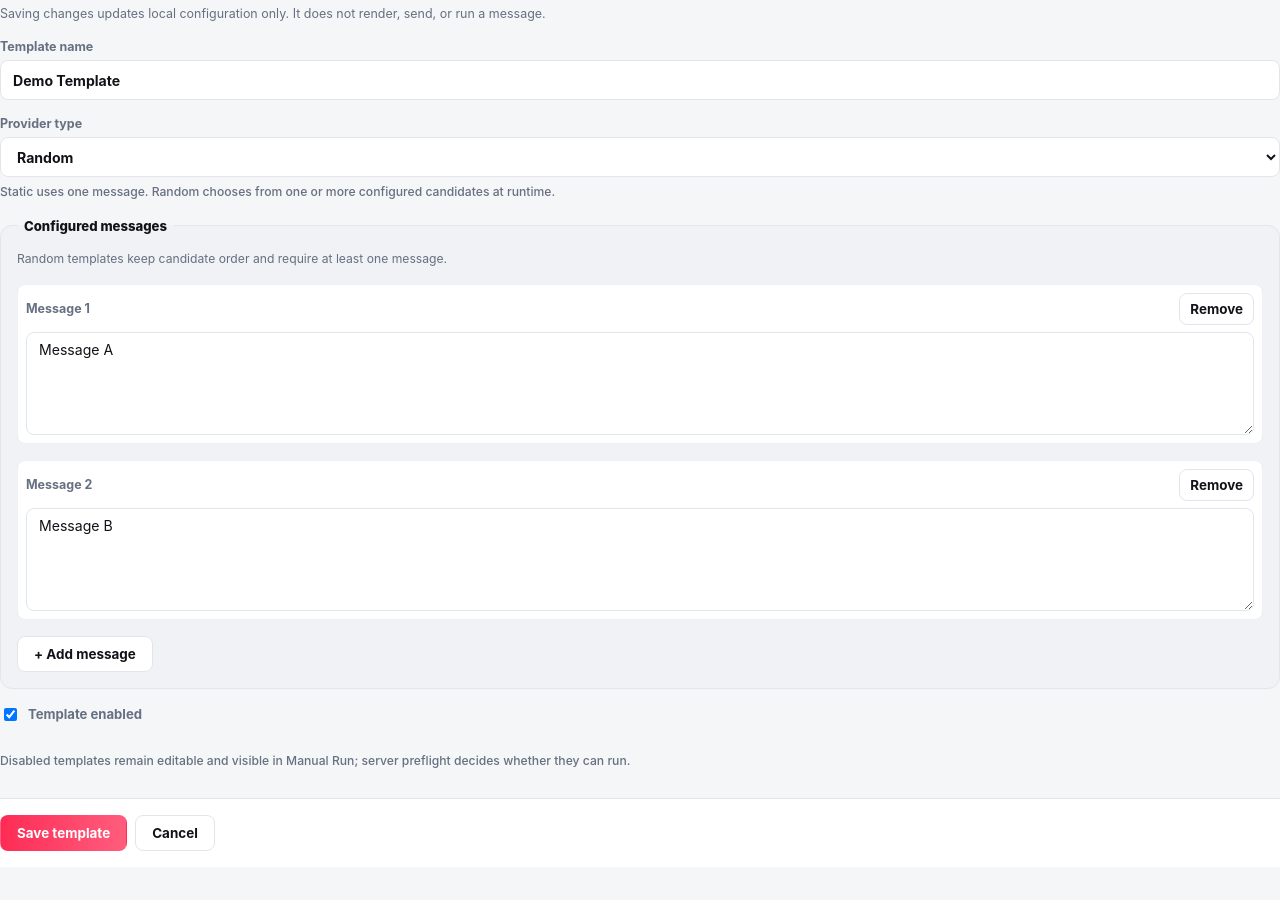
Test: TemplateEditor › keeps the explicitly selected message in a multi-message switch
The width and height of the screenshot is (1280, 900).
Select "Static" in the dropdown named "providerType" at {"x": 640, "y": 157}, box 0,137 -> 1279,177
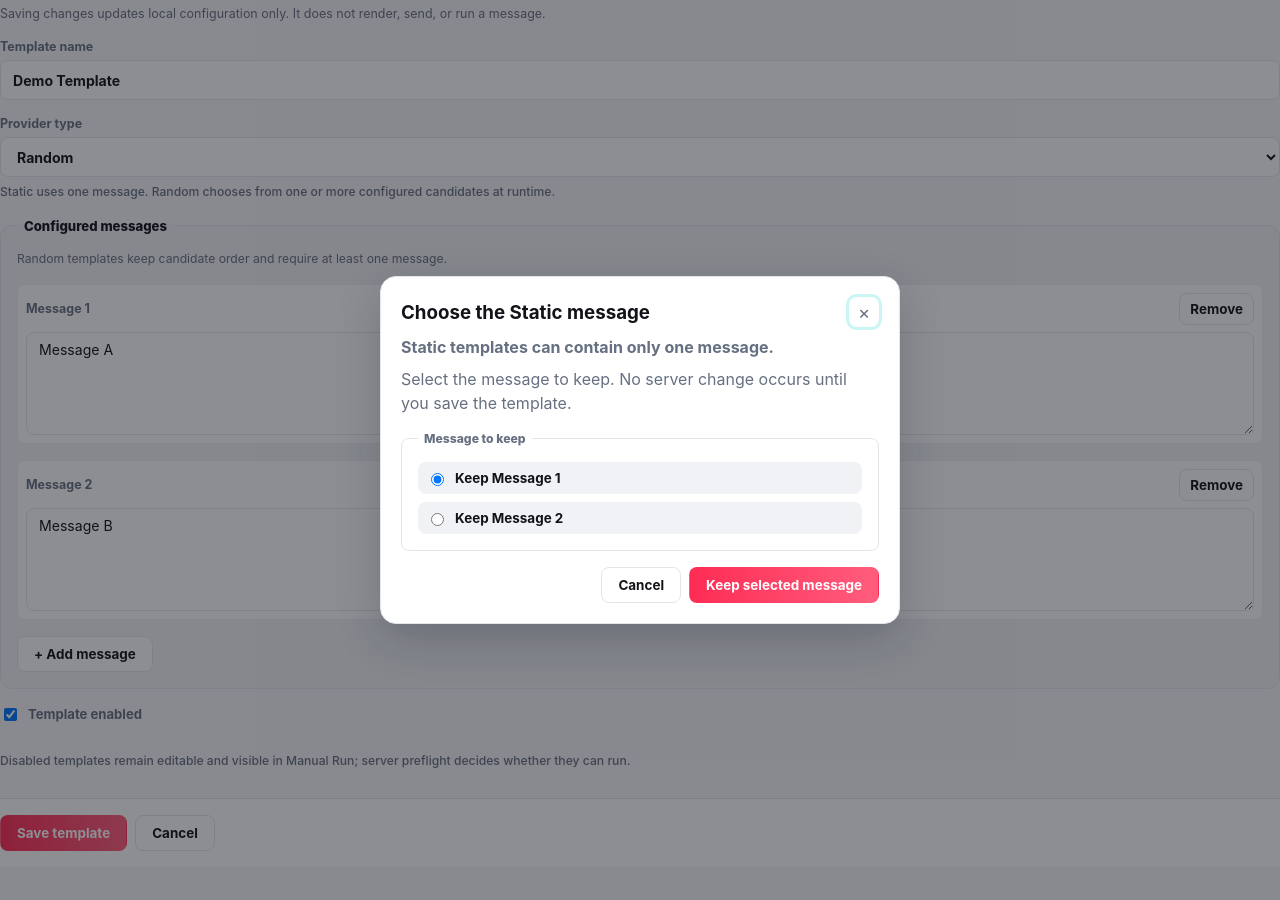
Click the radio button named "staticMessage".
click(438, 520)  # box 431,513 -> 444,526
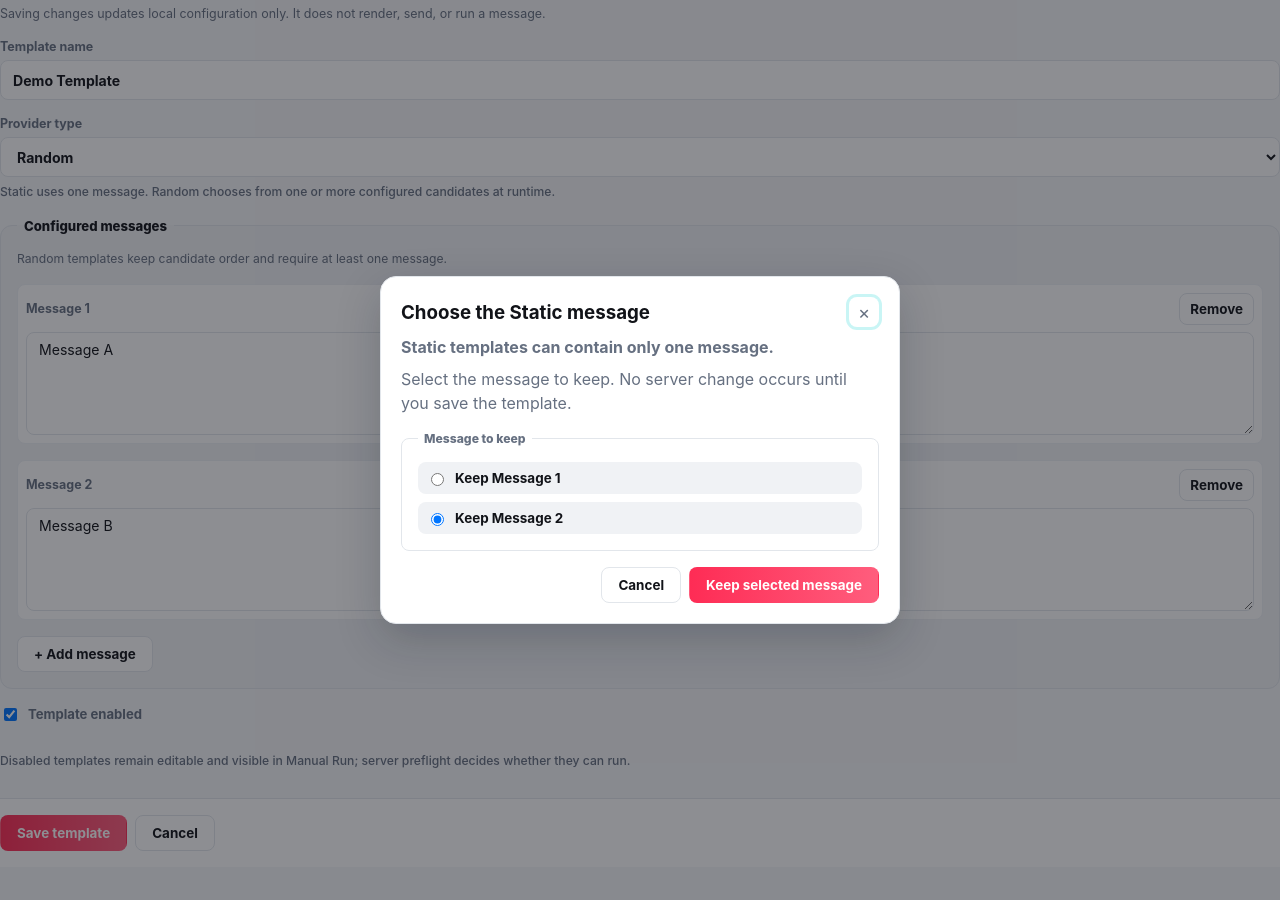
Click the button "Keep selected message".
click(784, 585)  # box 689,567 -> 879,603
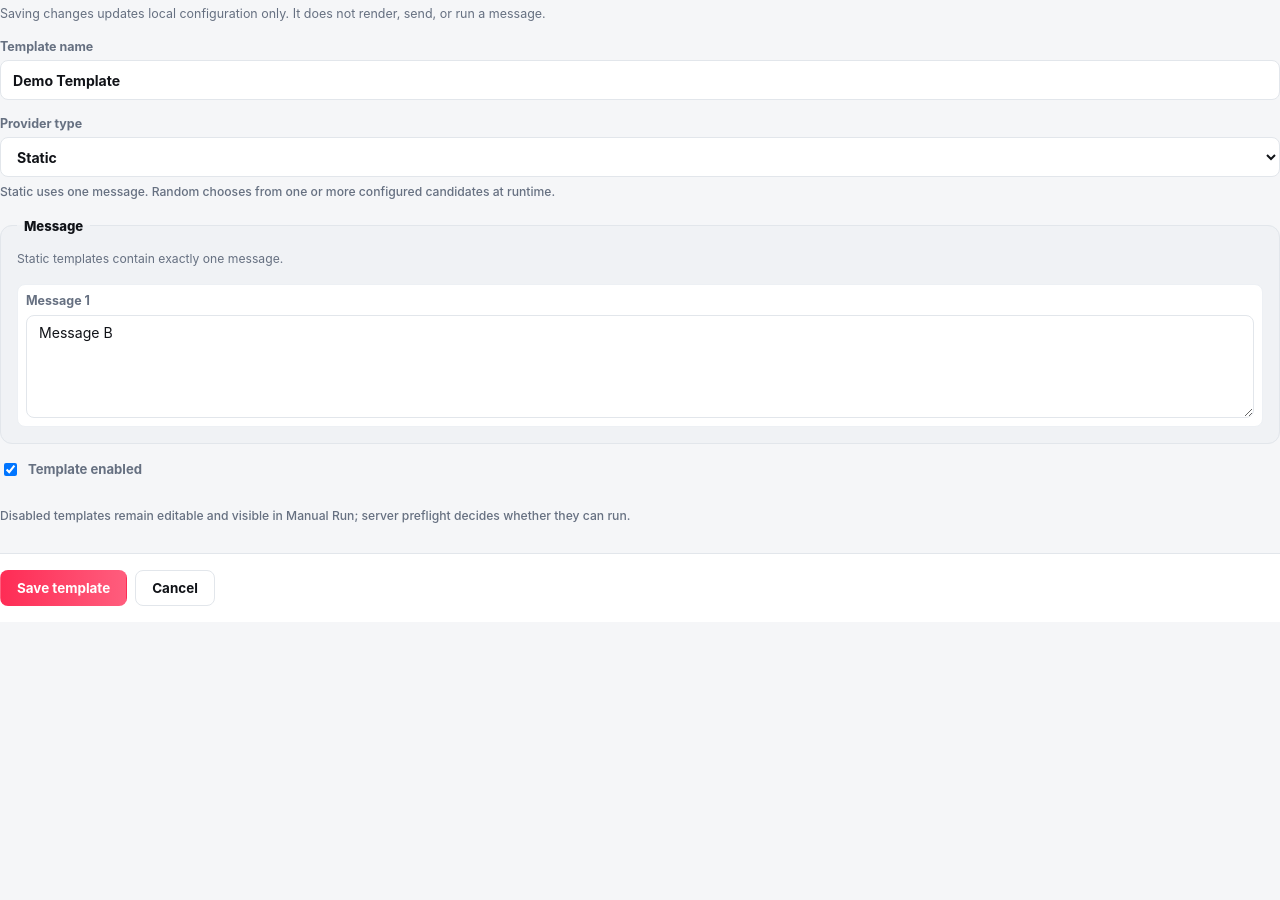
Expected: the number of text boxes is 1, 26,315 -> 1254,418
Now the text box labelled "Message 1" holds "Message B", box 26,315 -> 1254,418
